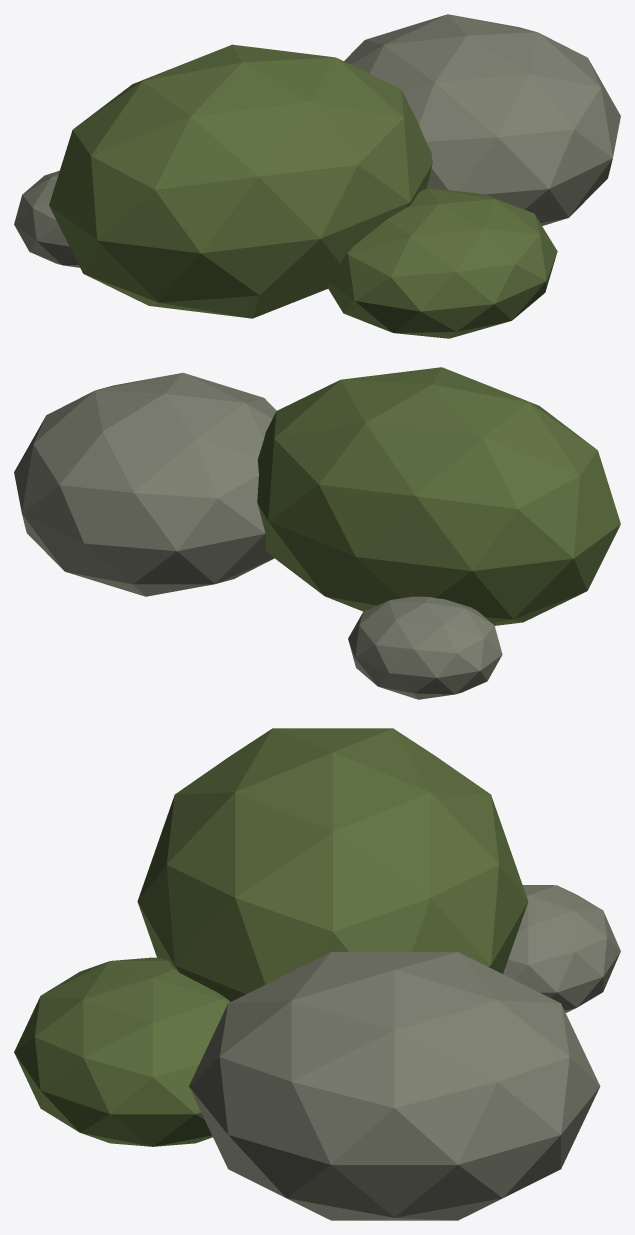
3 renders of one model, top to bottom at view 1: azimuth 30°, elevation 25°; view 2: azimuth 150°, elevation 25°; view 3: azimuth 270°, elevation 25°, orthographic. The views are drawn at different scales.
Parts seen in each view (by area): view 1: ROCK_0, ROCK_1, ROCK_2, ROCK_3; view 2: ROCK_0, ROCK_1, ROCK_3; view 3: ROCK_1, ROCK_0, ROCK_2, ROCK_3.
Boxes of the visible parts, x1=… form: ROCK_0: x1=49, y1=44, x2=432, y2=318; ROCK_1: x1=344, y1=14, x2=620, y2=225; ROCK_2: x1=327, y1=188, x2=557, y2=338; ROCK_3: x1=14, y1=170, x2=79, y2=267; ROCK_0: x1=257, y1=367, x2=620, y2=625; ROCK_1: x1=14, y1=373, x2=276, y2=596; ROCK_3: x1=348, y1=596, x2=502, y2=699; ROCK_1: x1=189, y1=952, x2=600, y2=1220; ROCK_0: x1=137, y1=728, x2=528, y2=1001; ROCK_2: x1=14, y1=957, x2=230, y2=1146; ROCK_3: x1=503, y1=885, x2=620, y2=1012.
Size of the model in its own units: 1.54 by 0.64 by 1.18.
